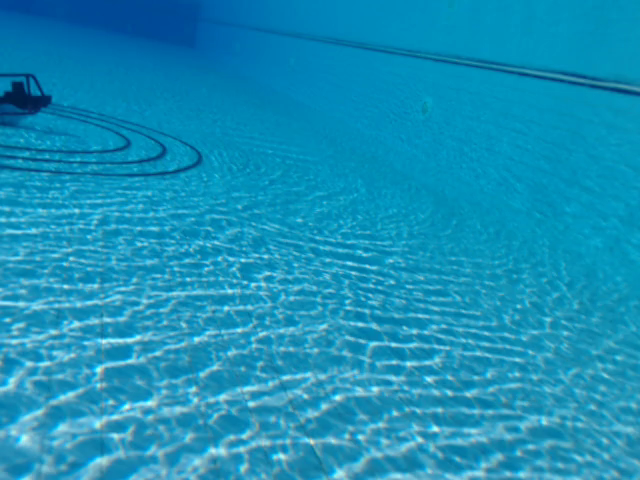submarine: (1, 71, 54, 123)
